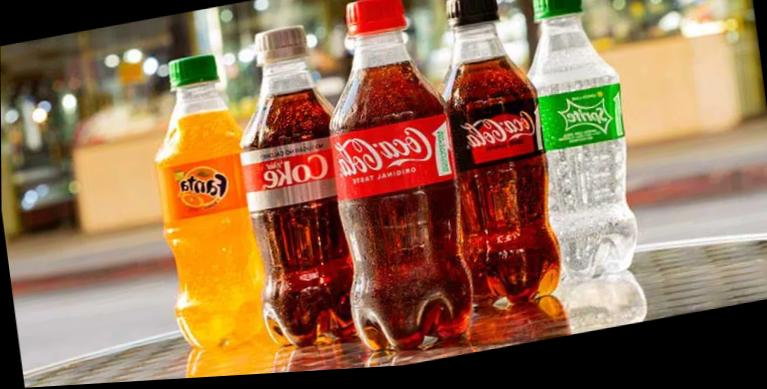plastic: (313, 0, 476, 358), (226, 17, 358, 356), (426, 0, 562, 316), (140, 42, 268, 359), (518, 0, 642, 285)
